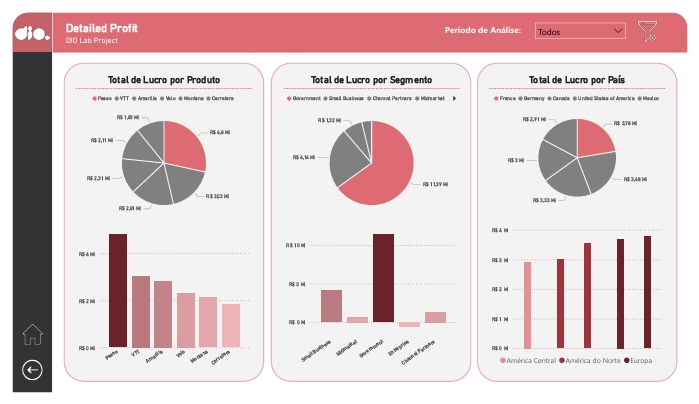

Layout of this report page (visuals, bound fields, positions):
{"tool":"powerbi","page":{"name":"Detailed Profit","canvas":[1280,720],"ordinal":3},"visuals":[{"type":"shape","box":[0,0,75,75.3],"z":0,"group":"g2"},{"type":"group","id":"g1","title":"Barra de Navegação","box":[0,0,75,720],"z":0},{"type":"shape","title":"Faixa Lateral","box":[0,0,75,720],"z":0,"group":"g1"},{"type":"slicer","fields":{"Values":["financials.Data.Variation.Hierarquia de datas.Ano"]},"box":[981.4,8.6,191.4,52.9],"z":0,"group":"g3"},{"type":"shape","title":"BG Elementos Gráficos","box":[96.7,95,380,605],"z":0,"group":"g6"},{"type":"shape","title":"BG Elementos Gráficos","box":[489.8,95,380,605],"z":0,"group":"g5"},{"type":"shape","title":"BG Elementos Gráficos","box":[881.1,95,380,605],"z":0,"group":"g4"},{"type":"group","id":"g2","title":"Cabeçalho","box":[0,0,1280,75.7],"z":1000},{"type":"textbox","box":[793,3.7,199,53],"z":1000,"group":"g3"},{"type":"image","title":"Logo DIO","box":[5.3,6.5,64.7,65.3],"z":1000,"group":"g2"},{"type":"pieChart","title":"Total de Lucro por Produto","fields":{"Y":["Sum(financials.Lucro)"],"Category":["financials.Produto"]},"box":[120,116.7,333.3,281.7],"z":1000,"group":"g6"},{"type":"pieChart","fields":{"Y":["Sum(financials.Lucro)"],"Category":["financials.Segmento"]},"box":[514,116.7,333.3,281.7],"z":1000,"group":"g5"},{"type":"pieChart","fields":{"Y":["Sum(financials.Lucro)"],"Category":["financials.País"]},"box":[904.4,116.7,333.3,261.7],"z":1000,"group":"g4"},{"type":"image","title":"Botão Retroceder Página","box":[15,655,45,45],"z":1000,"group":"g1"},{"type":"shape","box":[75.7,0,1204.3,75.7],"z":2000,"group":"g2"},{"type":"group","id":"g3","title":"Filtro de Análise","box":[793,3.7,437,57.8],"z":2000},{"type":"image","title":"Botão Limpar Filtros","box":[1178.6,15.7,51.4,38.6],"z":2000,"group":"g3"},{"type":"clusteredColumnChart","title":"Total de Lucro por Produto","fields":{"Y":["Sum(financials.Lucro)"],"Category":["financials.Produto"]},"box":[120,398.3,333.3,280],"z":2000,"group":"g6"},{"type":"clusteredColumnChart","title":"Total de Lucro por Segmento","fields":{"Y":["Sum(financials.Lucro)"],"Category":["financials.Segmento"]},"box":[514,398.3,333.3,280],"z":2000,"group":"g5"},{"type":"clusteredColumnChart","title":"Total de Lucro por País","fields":{"Y":["Sum(financials.Lucro)"],"Category":["financials.País"],"Series":["financials.País (grupos) 2"]},"box":[904.4,398.3,333.3,280],"z":2000,"group":"g4"},{"type":"image","title":"Botão Home Page","box":[15.4,587.7,44.6,43.8],"z":2000,"group":"g1"},{"type":"group","id":"g4","title":"Lucro por País","box":[881.1,95,380,605],"z":2500},{"type":"textbox","title":"Título","box":[96,1,594,68],"z":3000,"group":"g2"},{"type":"group","id":"g5","title":"Lucro por Segmento","box":[489.8,95,380,605],"z":3000},{"type":"group","id":"g6","title":"Lucro por Produto","box":[96.7,95,380,605],"z":4000}]}

Visuals, with their boxes in screenshot pixels (x1, y1, x2, y2), scaled from the page's 1280x720 canvas onto the 699x404 screenshot:
shape: rect(0, 0, 41, 42)
"Barra de Navegação" group: rect(0, 0, 41, 403)
"Faixa Lateral" shape: rect(0, 0, 41, 403)
slicer - financials.Data.Variation.Hierarquia de datas.Ano: rect(536, 5, 640, 35)
"BG Elementos Gráficos" shape: rect(53, 53, 260, 393)
"BG Elementos Gráficos" shape: rect(267, 53, 475, 393)
"BG Elementos Gráficos" shape: rect(481, 53, 689, 393)
"Cabeçalho" group: rect(0, 0, 698, 42)
textbox: rect(433, 2, 542, 32)
"Logo DIO" image: rect(3, 4, 38, 40)
"Total de Lucro por Produto" pieChart: rect(66, 65, 248, 224)
pieChart - Sum(financials.Lucro) x financials.Segmento: rect(281, 65, 463, 224)
pieChart - Sum(financials.Lucro) x financials.País: rect(494, 65, 676, 212)
"Botão Retroceder Página" image: rect(8, 368, 33, 393)
shape: rect(41, 0, 698, 42)
"Filtro de Análise" group: rect(433, 2, 672, 35)
"Botão Limpar Filtros" image: rect(644, 9, 672, 30)
"Total de Lucro por Produto" clusteredColumnChart: rect(66, 223, 248, 381)
"Total de Lucro por Segmento" clusteredColumnChart: rect(281, 223, 463, 381)
"Total de Lucro por País" clusteredColumnChart: rect(494, 223, 676, 381)
"Botão Home Page" image: rect(8, 330, 33, 354)
"Lucro por País" group: rect(481, 53, 689, 393)
"Título" textbox: rect(52, 1, 377, 39)
"Lucro por Segmento" group: rect(267, 53, 475, 393)
"Lucro por Produto" group: rect(53, 53, 260, 393)
